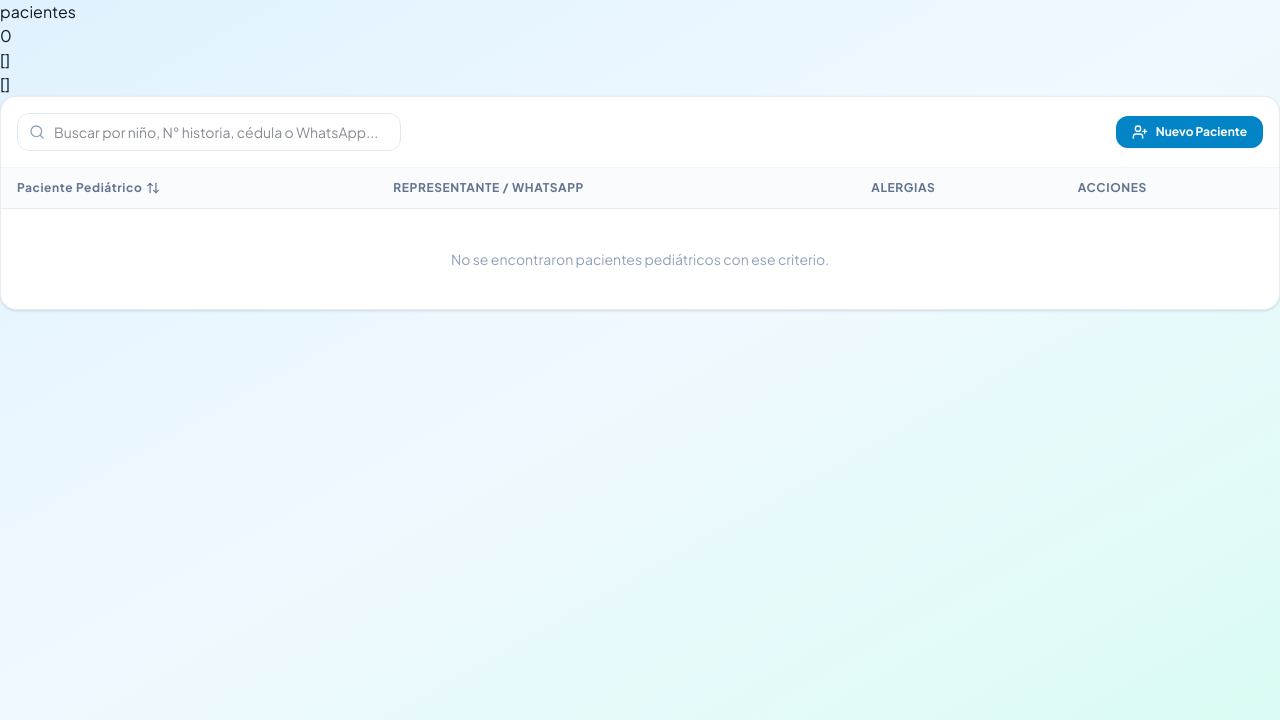
Test: Flujo real de uso del Doctor de Pediatría › Escenario 1: Paciente NO existe -> busca -> crea -> inicia consulta -> registra base -> cierra consulta
The image size is (1280, 720).
Later steps or results of the test are not shown.
# Buscar paciente inexistente en Pacientes
Type "Mateo" into the field with placeholder "Buscar por niño, N° historia, cédula o WhatsApp..." at (209, 132), box [17,113,401,151]
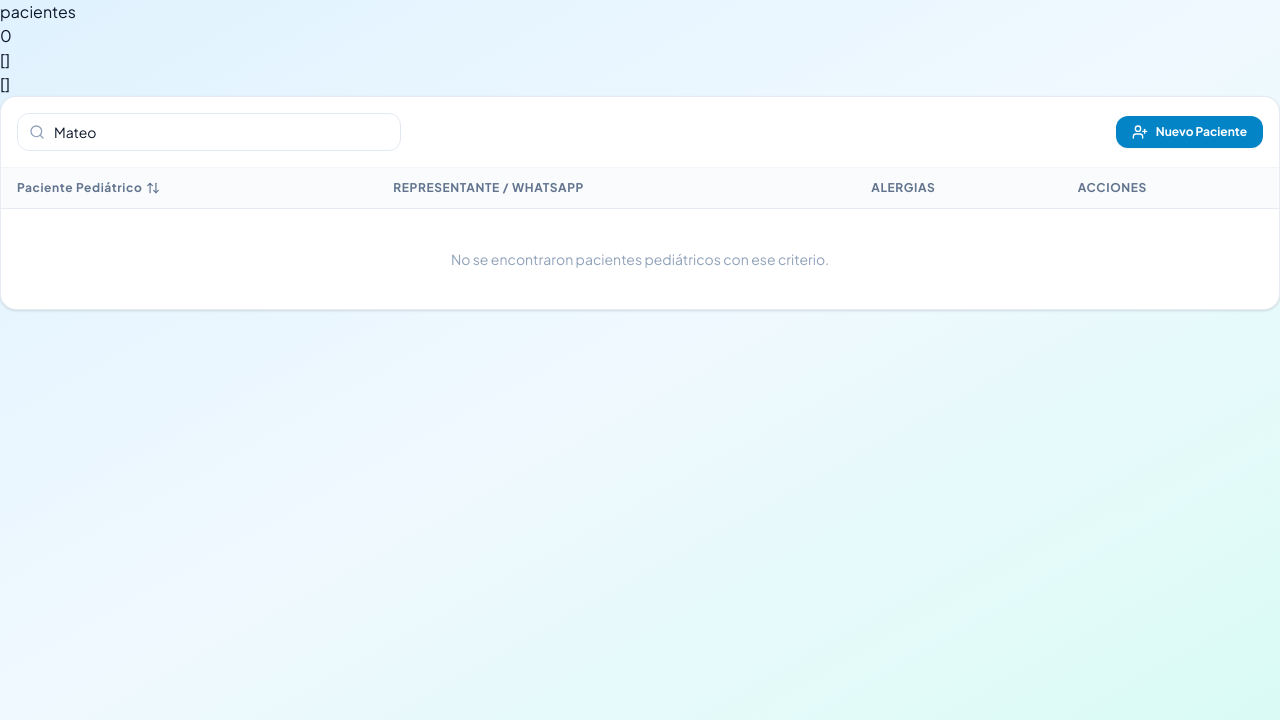
Expected: the text "No se encontraron pacientes pediátricos con ese criterio." is shown, [1,208,1279,309]
# Ir a Nuevo Paciente
Click the button "Nuevo Paciente" at (1189, 132), box [1116,116,1263,148]
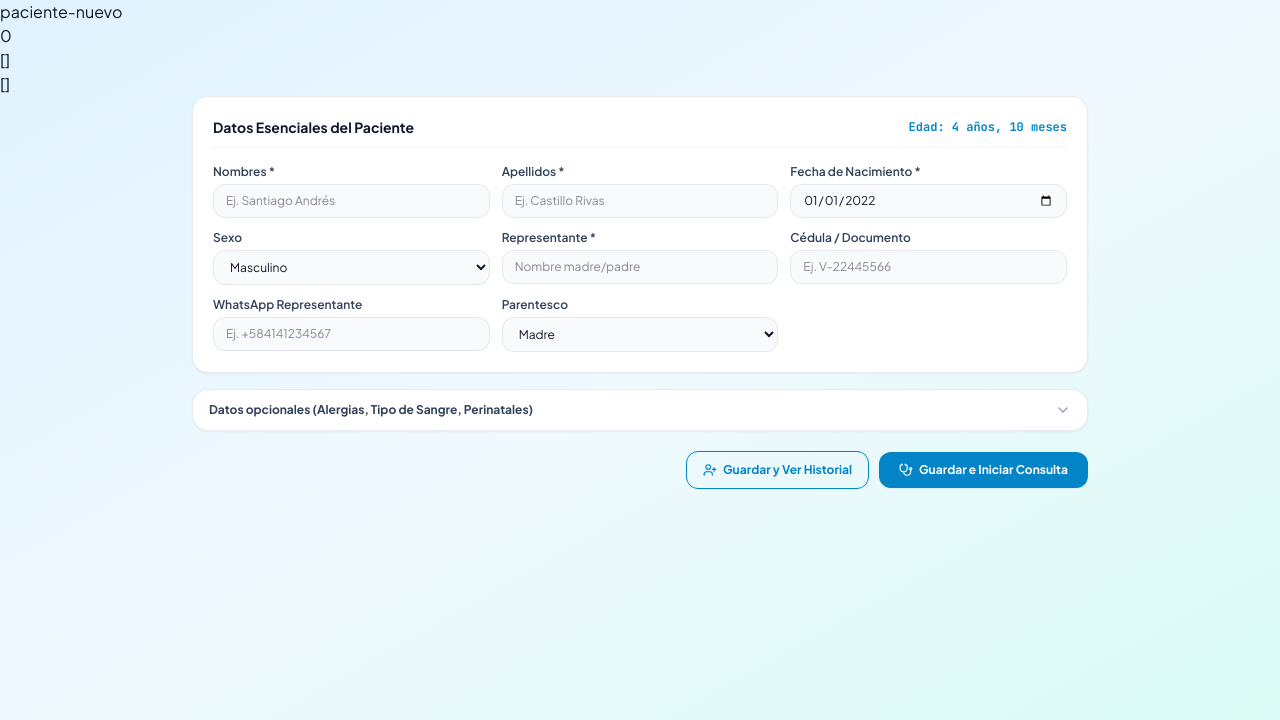
Expected: the text with test id "current-view" reads "paciente-nuevo", [0,1,122,22]
